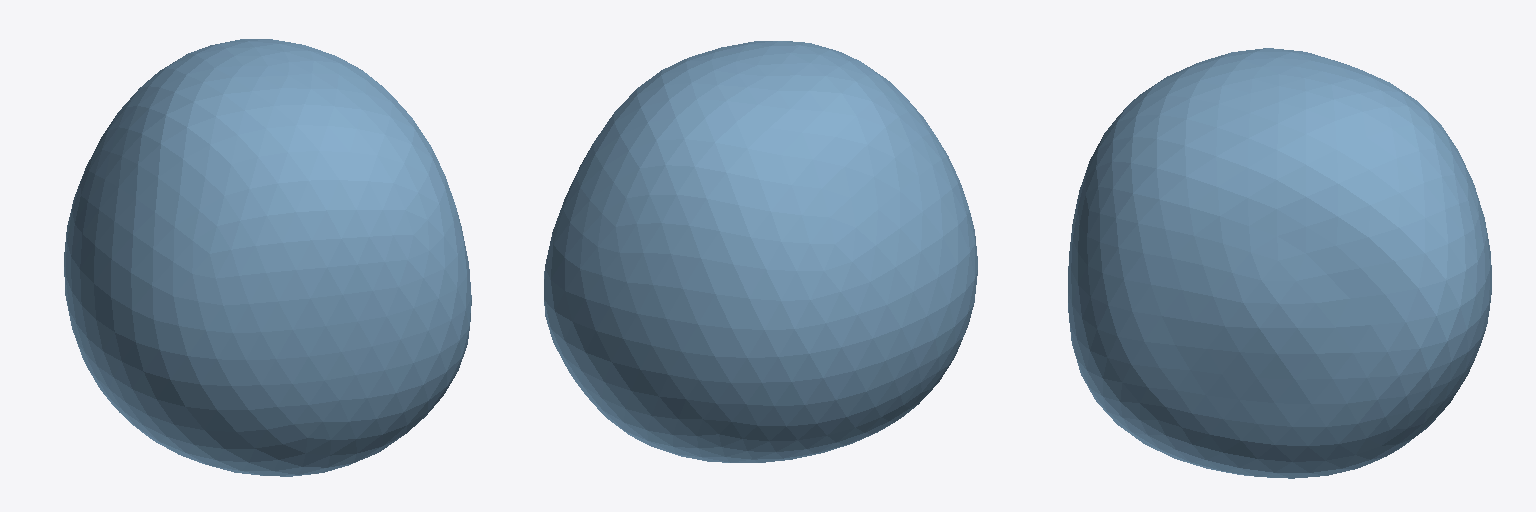
Rendered from bubble.obj.
3 renders of one model, left to right at view 1: azimuth 30°, elevation 25°; view 2: azimuth 150°, elevation 25°; view 3: azimuth 270°, elevation 25°, orthographic.
Visible parts, largest first — view 1: Icosphere; view 2: Icosphere; view 3: Icosphere.
Part boxes in pixels (x1,y1,x2,y2): Icosphere: (64, 39, 471, 476); Icosphere: (544, 41, 977, 462); Icosphere: (1068, 48, 1491, 478).
Size of the model in its own units: 1.82 by 1.91 by 1.96.